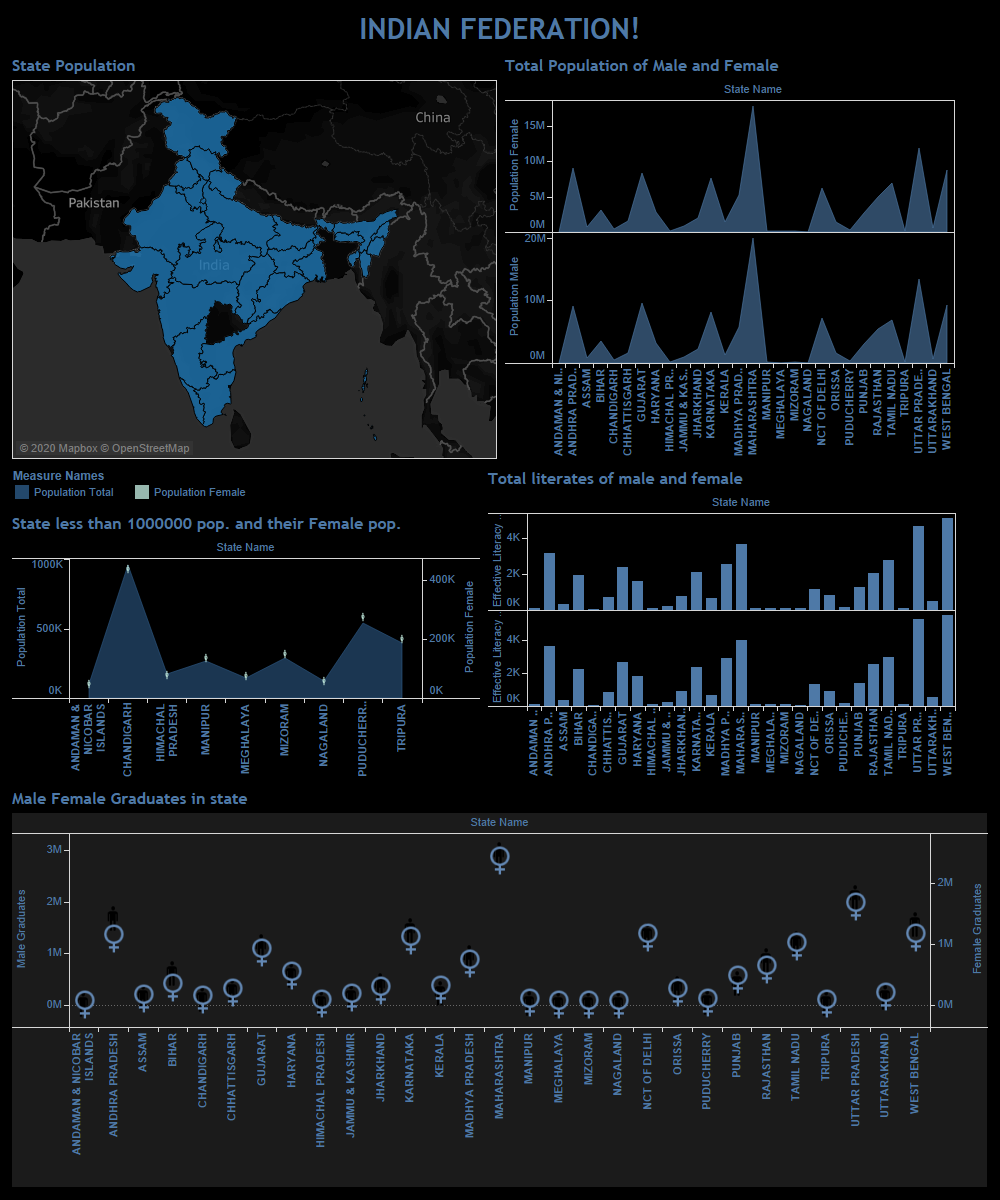

Layout of this report page (visuals, bound fields, positions):
{"tool":"tableau","page":{"name":"INDIAN FEDERATION!","canvas":[1000,1200],"ordinal":0},"visuals":[{"type":"title","box":[8,8,984,42]},{"type":"worksheet","title":"State Population","mark":"Multipolygon","box":[8,50,493,412.7]},{"type":"worksheet","title":"Total Population of Male and Female","mark":"Area","rows":["population_female","population_male"],"cols":["state_name"],"box":[501,50,459,412.7]},{"type":"legend","title":"State Population","param":"[federated.1p7dw9j0gfgakl14dfw2d0xndinw].[sum:population_total:qk]","box":[960,50,32,22]},{"type":"legend","title":"State less than 1000000 pop. and their Female pop.","param":"[federated.1p7dw9j0gfgakl14dfw2d0xndinw].[:Measure Names]","box":[8,462.7,476,45.3]},{"type":"worksheet","title":"Total literates of male and female","mark":"Automatic","rows":["effective_literacy_rate_female","effective_literacy_rate_male"],"cols":["state_name"],"box":[484,462.7,476,320.3]},{"type":"worksheet","title":"State less than 1000000 pop. and their Female pop.","mark":"Automatic","rows":["population_total","population_female"],"cols":["state_name"],"box":[8,508,476,275]},{"type":"worksheet","title":"Male Female Graduates in state","mark":"Shape","rows":["male_graduates","female_graduates"],"cols":["state_name"],"box":[8,783,984,409]}]}

Visuals, with their boxes in screenshot pixels (x1, y1, x2, y2), scaled from the page's 1000x1200 canvas onto the 1000x1200 screenshot:
title: <bbox>8, 8, 992, 50</bbox>
"State Population" worksheet (Multipolygon marks): <bbox>8, 50, 501, 463</bbox>
"Total Population of Male and Female" worksheet (Area marks): <bbox>501, 50, 960, 463</bbox>
"State Population" legend: <bbox>960, 50, 992, 72</bbox>
"State less than 1000000 pop. and their Female pop." legend: <bbox>8, 463, 484, 508</bbox>
"Total literates of male and female" worksheet: <bbox>484, 463, 960, 783</bbox>
"State less than 1000000 pop. and their Female pop." worksheet: <bbox>8, 508, 484, 783</bbox>
"Male Female Graduates in state" worksheet (Shape marks): <bbox>8, 783, 992, 1192</bbox>
